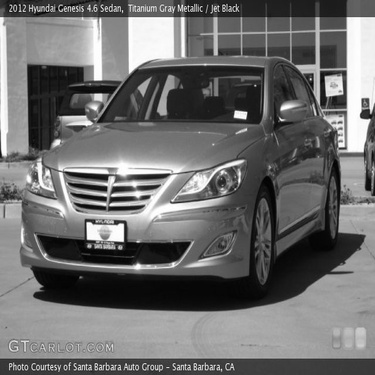car: (21, 53, 346, 288), (46, 76, 164, 164), (348, 90, 374, 204)
